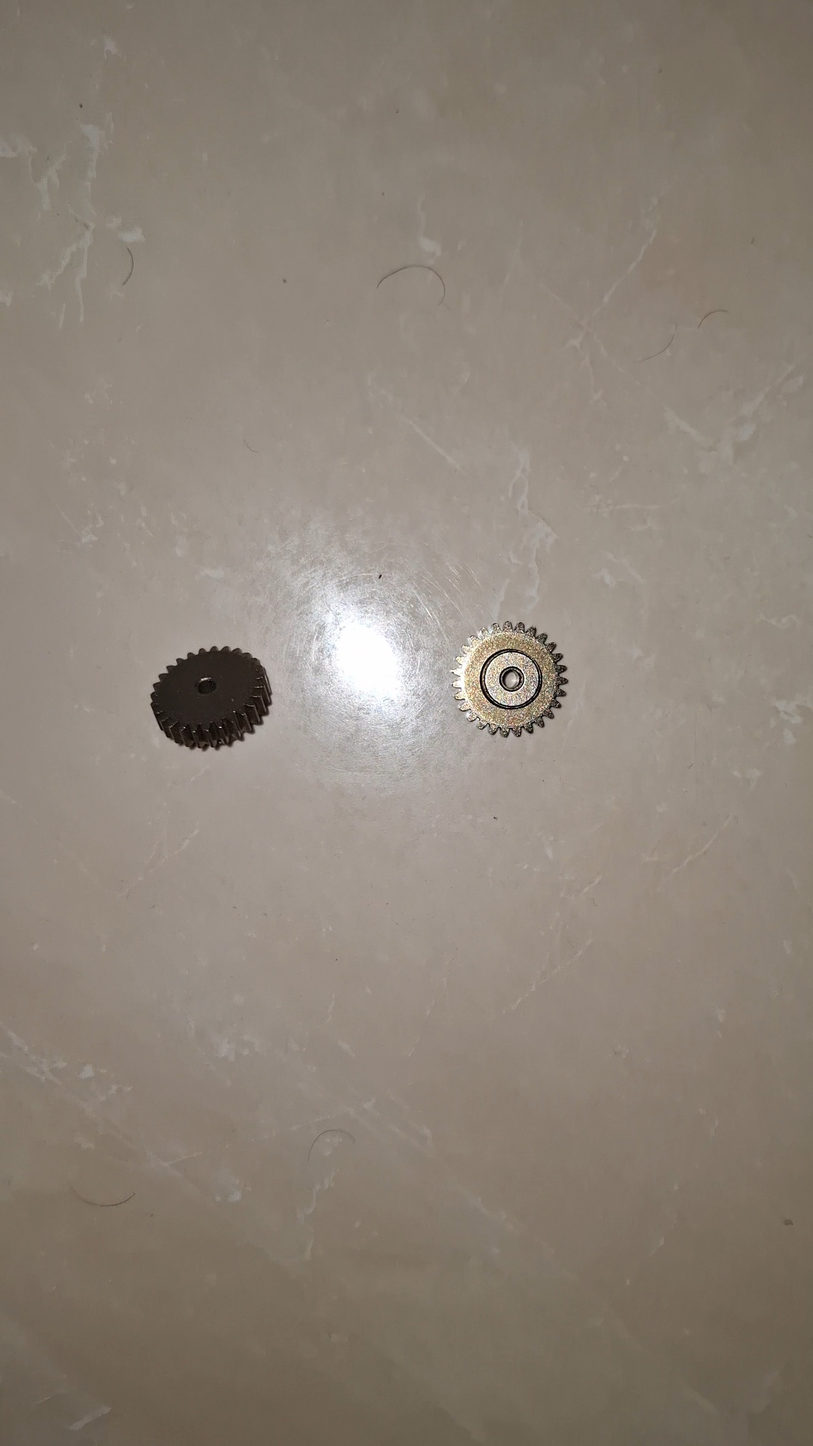spur gear: (453, 622, 568, 737), (151, 647, 271, 748)
